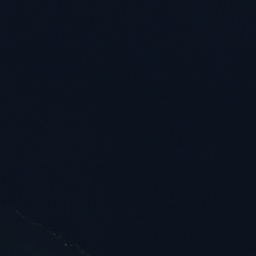Marine Debris: (63, 242, 69, 247)
